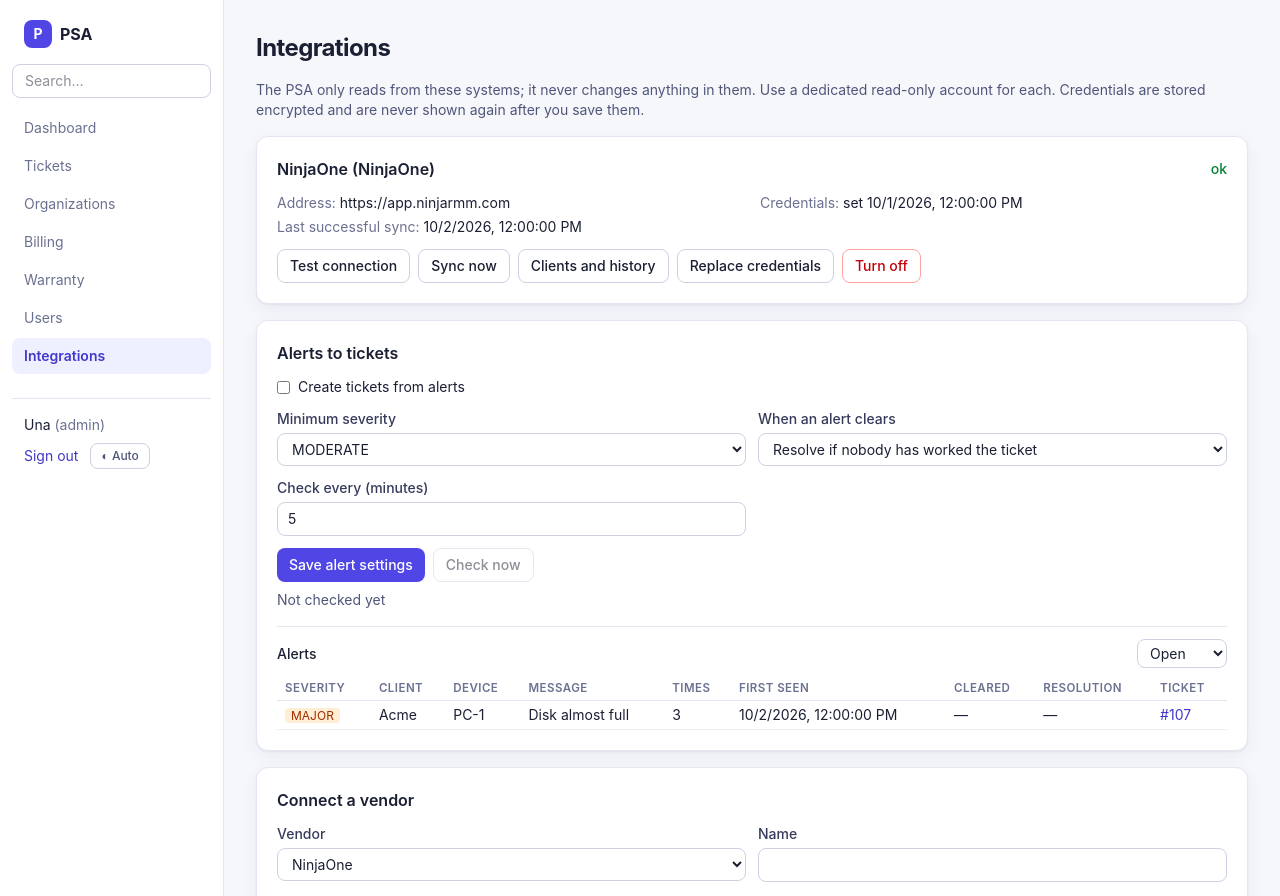
it: RMM alerts card › lists alerts with a ticket link and switches the filter
Expected: the text "Disk almost full" is shown, [520, 701, 664, 730]
Select "Cleared" in the dropdown named "Alert filter": (1182, 654) [1137, 639, 1227, 668]
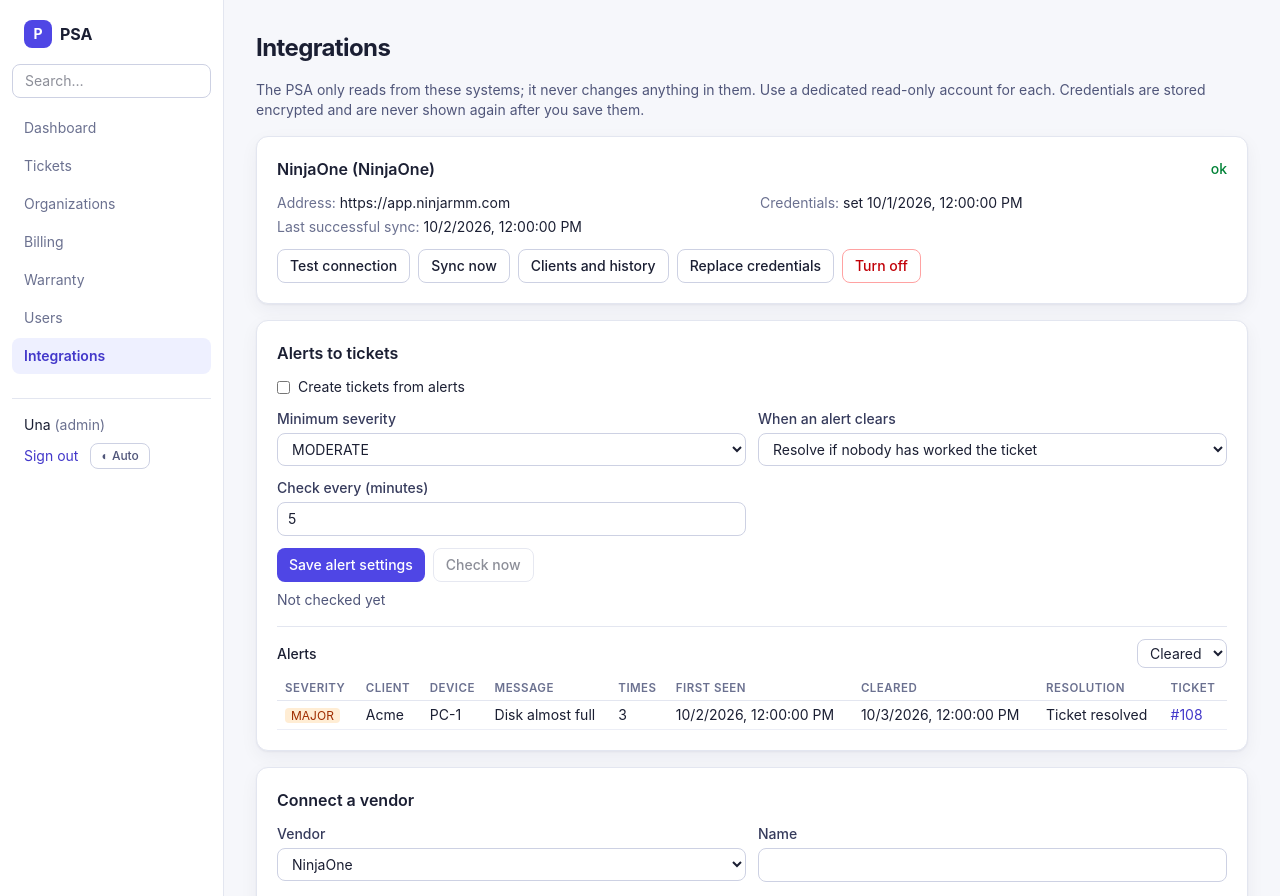
Now the text "Ticket resolved" is shown, box [1038, 701, 1162, 730]
